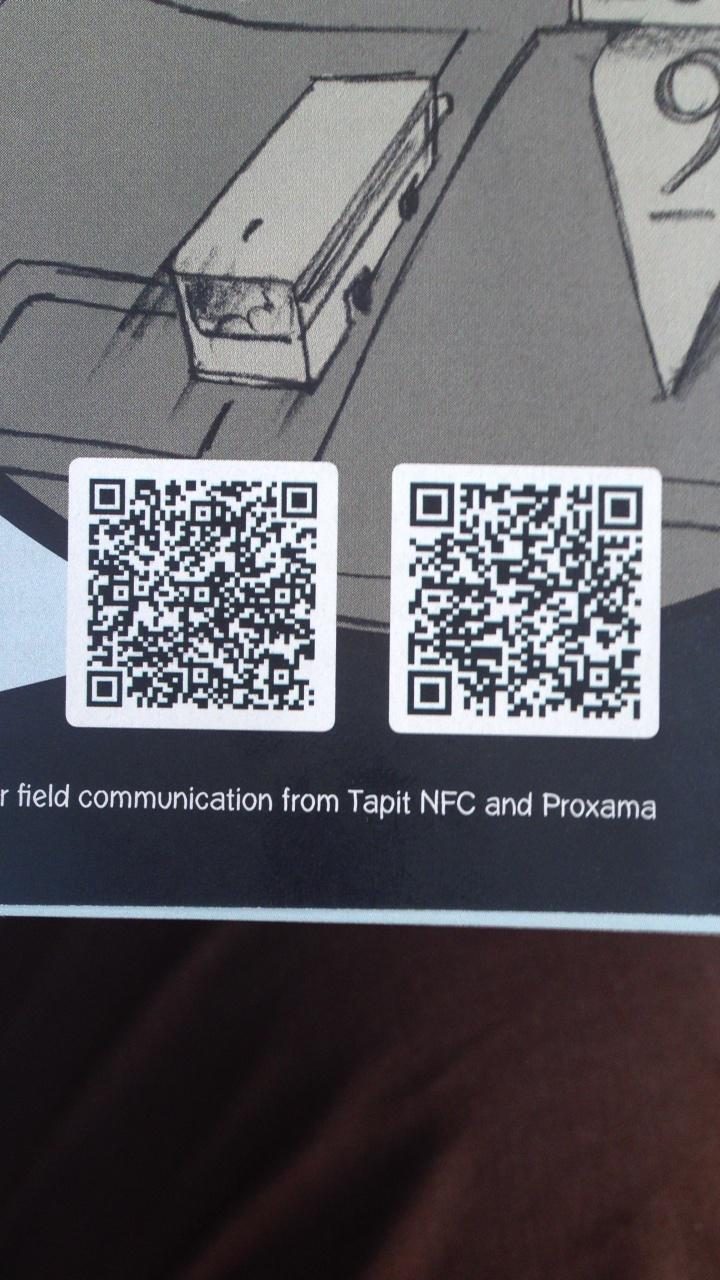Finder pattern: (402, 476, 460, 534), (402, 662, 459, 720), (590, 481, 647, 533), (80, 664, 128, 714), (82, 471, 130, 520), (277, 475, 323, 523)
